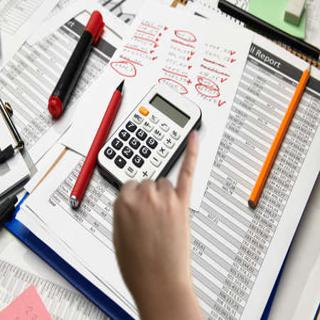FINE: (104, 121, 208, 294)
